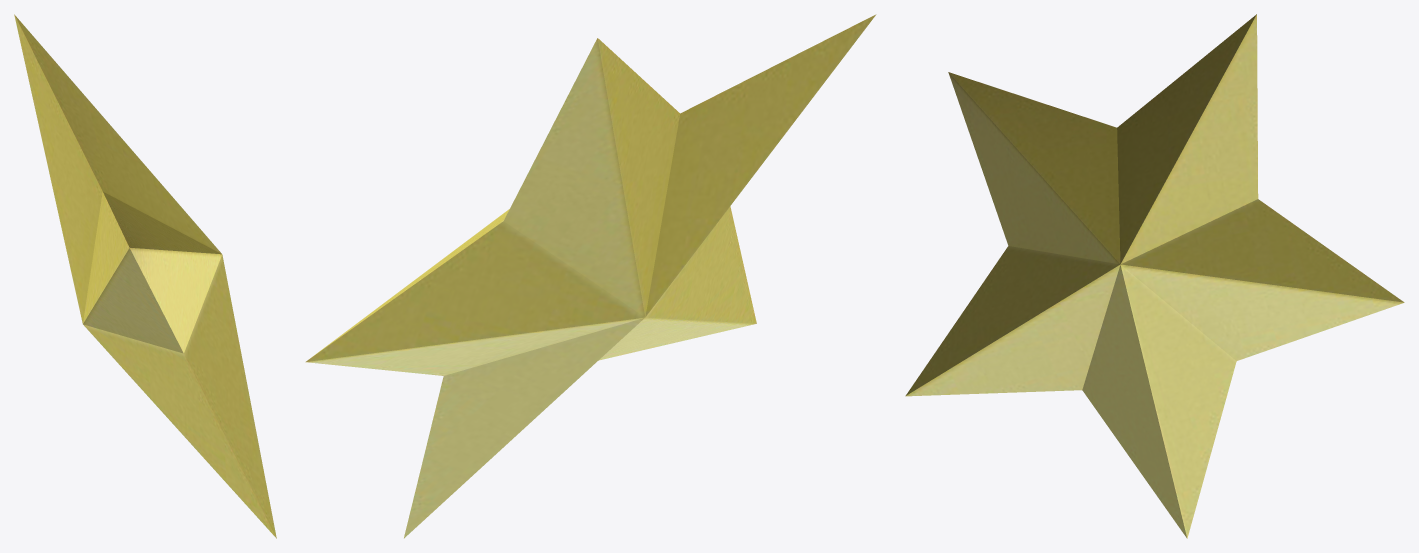
The model's file is star.obj.
3 views of the same model, side by side, from view 1: azimuth 30°, elevation 25°; view 2: azimuth 150°, elevation 25°; view 3: azimuth 270°, elevation 25° (orthographic). The views are drawn at different scales.
Parts seen in each view (by area): view 1: dynamic; view 2: dynamic; view 3: dynamic.
Boxes of the visible parts, x1,y1,x2,y2 form: dynamic: [14, 14, 276, 538]; dynamic: [305, 14, 876, 538]; dynamic: [905, 14, 1404, 538].
Size of the model in its own units: 9.41 by 17.2 by 17.77.
1 material, 1 textured.
